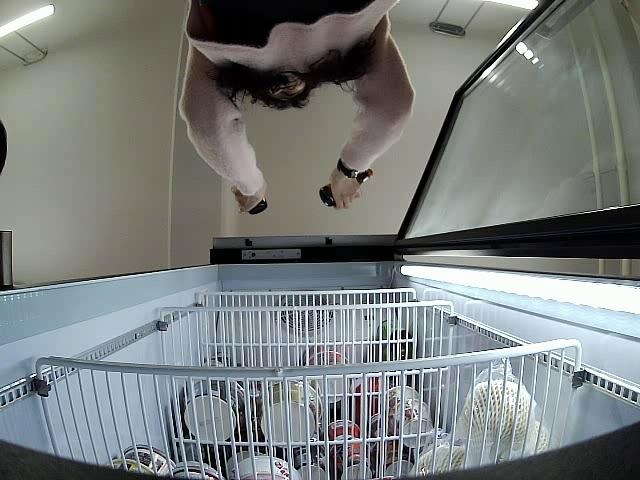00_hand: (329, 169, 358, 213)
17_vita500: (318, 166, 375, 208), (229, 184, 269, 216)
